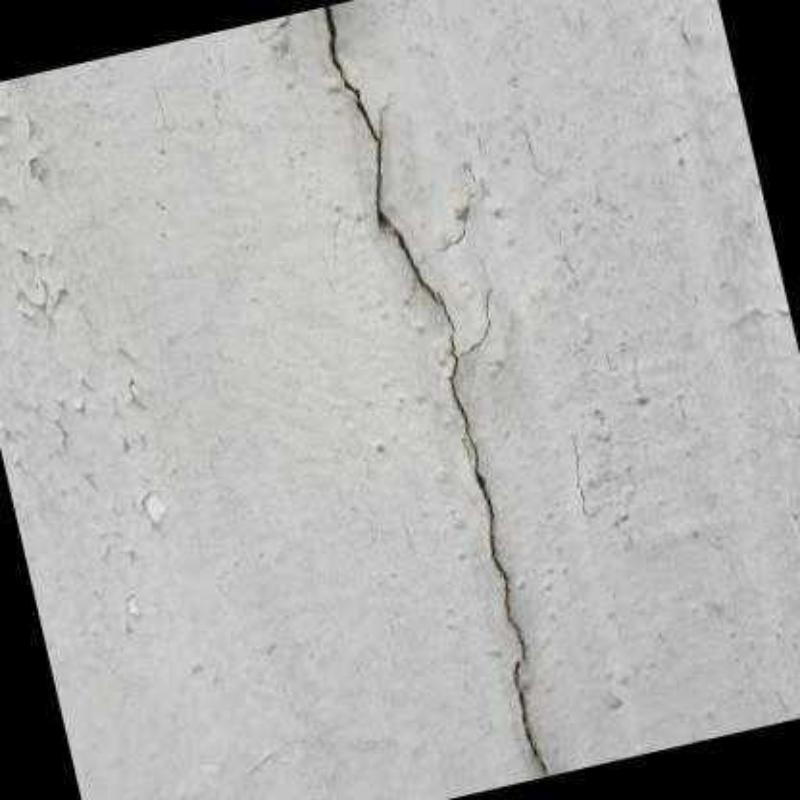pothole: (319, 4, 558, 778), (462, 288, 492, 354), (573, 438, 587, 513), (440, 221, 467, 250)
